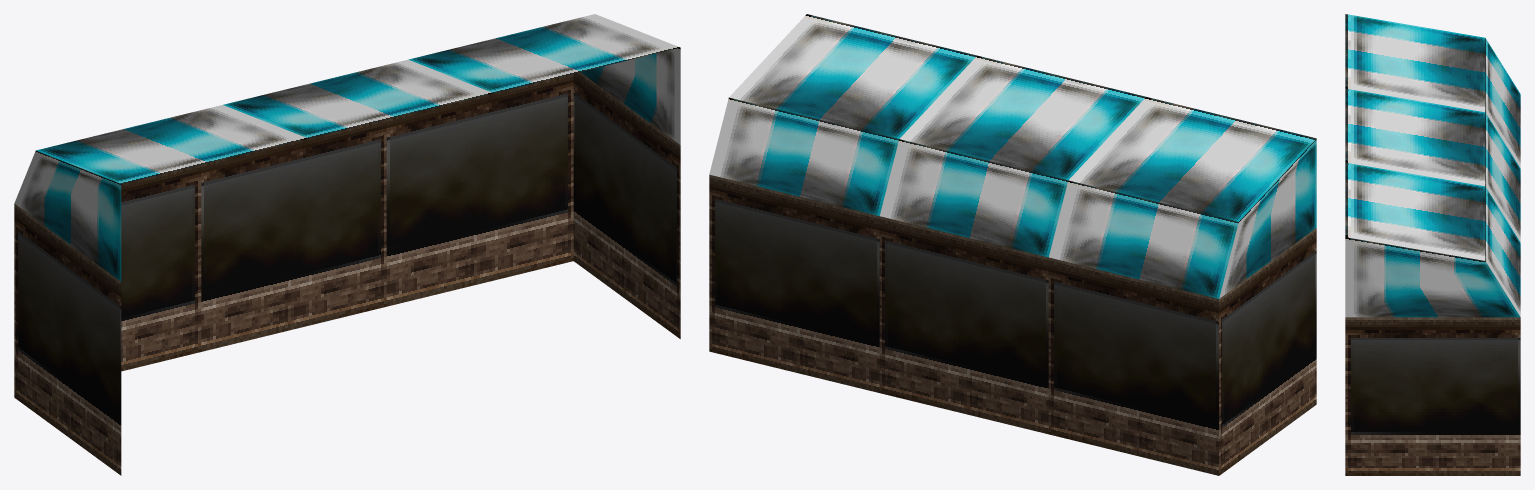
3 views of the same model, side by side, from view 1: azimuth 30°, elevation 25°; view 2: azimuth 150°, elevation 25°; view 3: azimuth 270°, elevation 25° (orthographic). The views are drawn at different scales.
Parts seen in each view (by area): view 1: prim242-Box164; view 2: prim242-Box164; view 3: prim242-Box164.
Boxes of the visible parts, box(x1,y1,x2,y2) form: prim242-Box164: box(14, 14, 680, 475); prim242-Box164: box(709, 14, 1316, 475); prim242-Box164: box(1345, 14, 1520, 475).
Bounding box in the file's own units: 766 × 382 × 254.
Materials: 2 (2 with a texture image).
